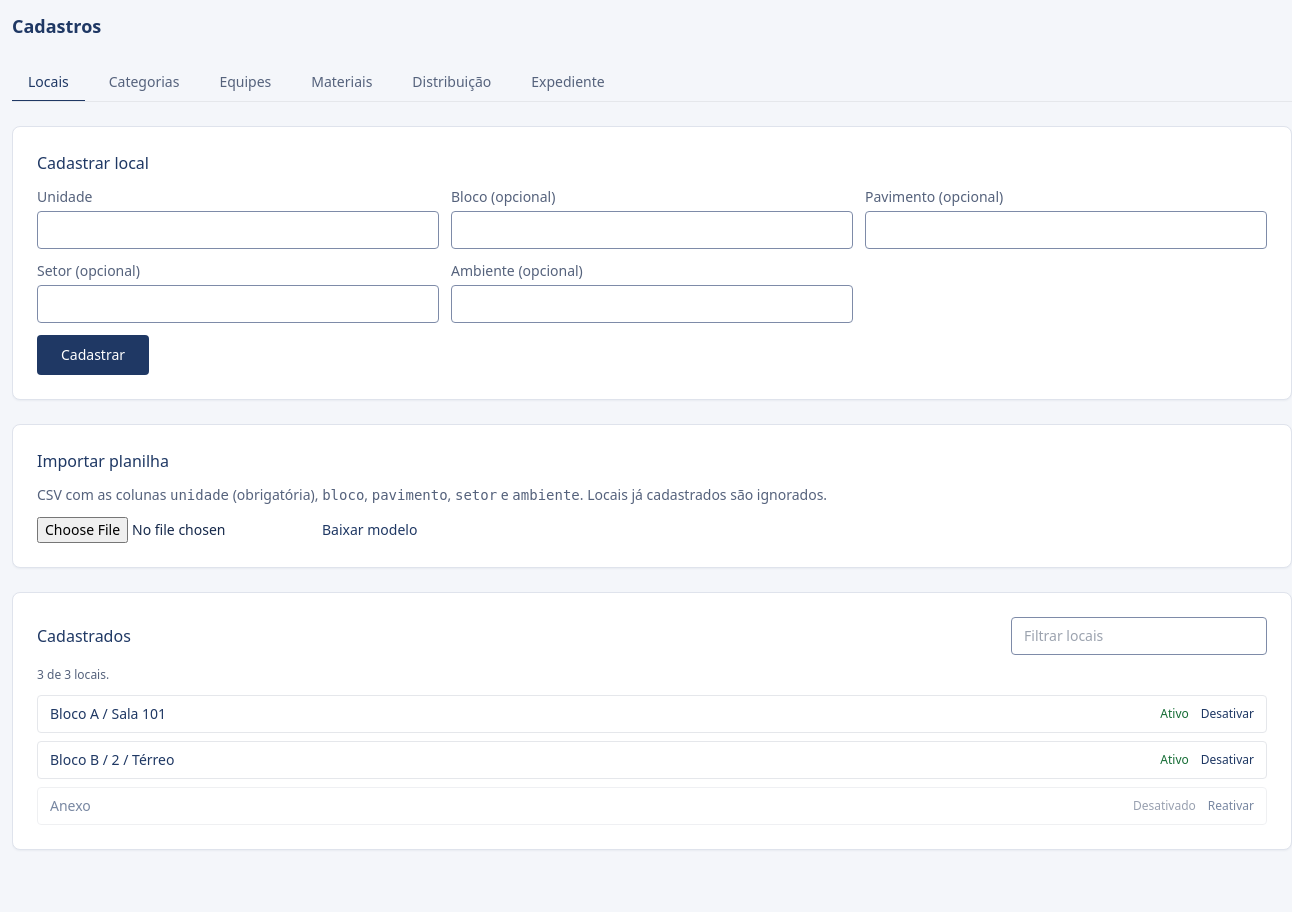
Test case: Filtro de locais › limpar o filtro devolve a lista inteira
The image size is (1292, 912).
Expected: the text "3 de 3 locais." is shown, [37,666,109,683]
Type "anexo" into the search field with placeholder "Filtrar locais".
click(1139, 636); type("anexo")  # box [1011,617,1267,655]
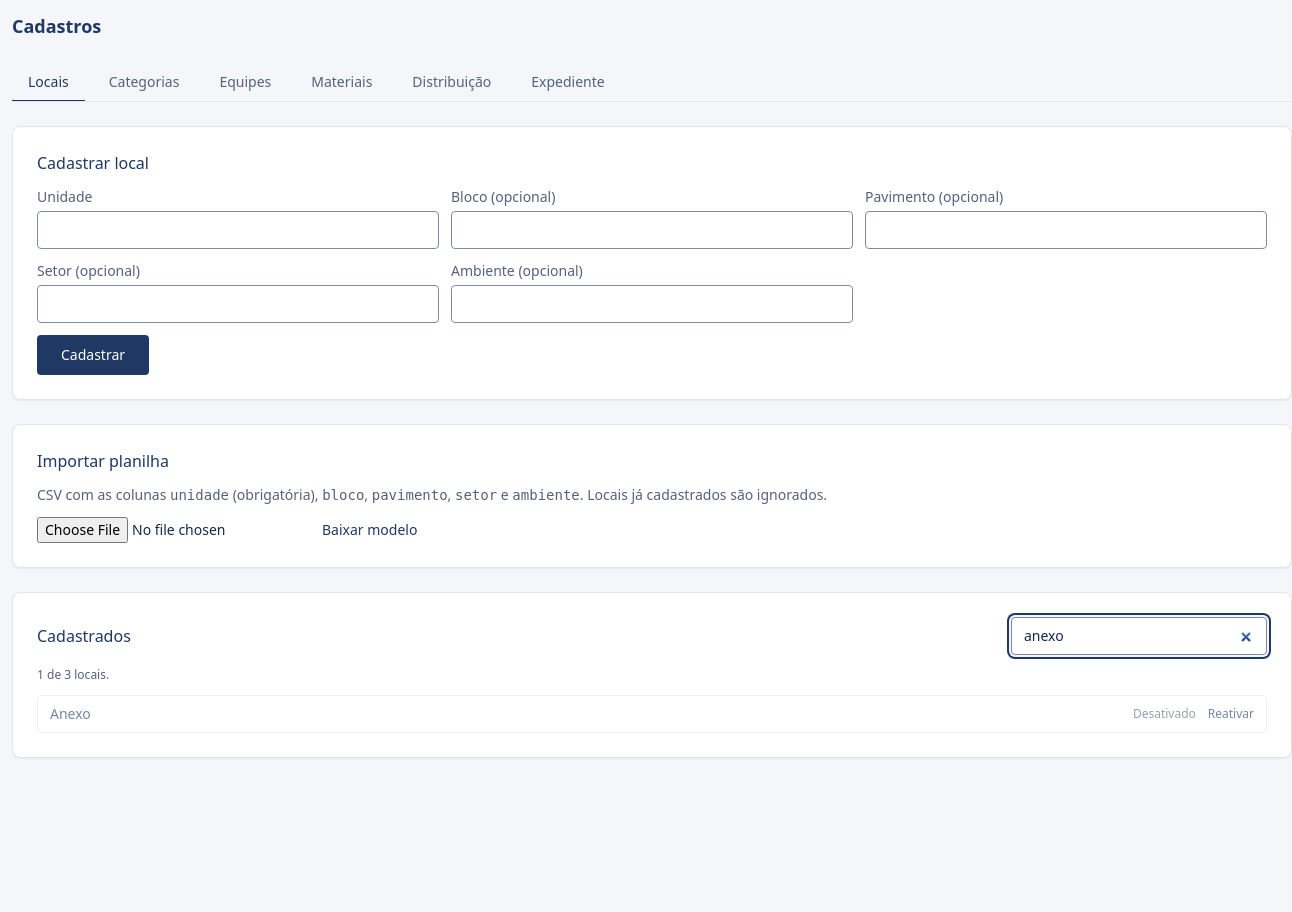
Expected: the text "1 de 3 locais." is shown, [37,666,109,683]
Clear the search field with placeholder "Filtrar locais" at (1139, 636), box [1011,617,1267,655]
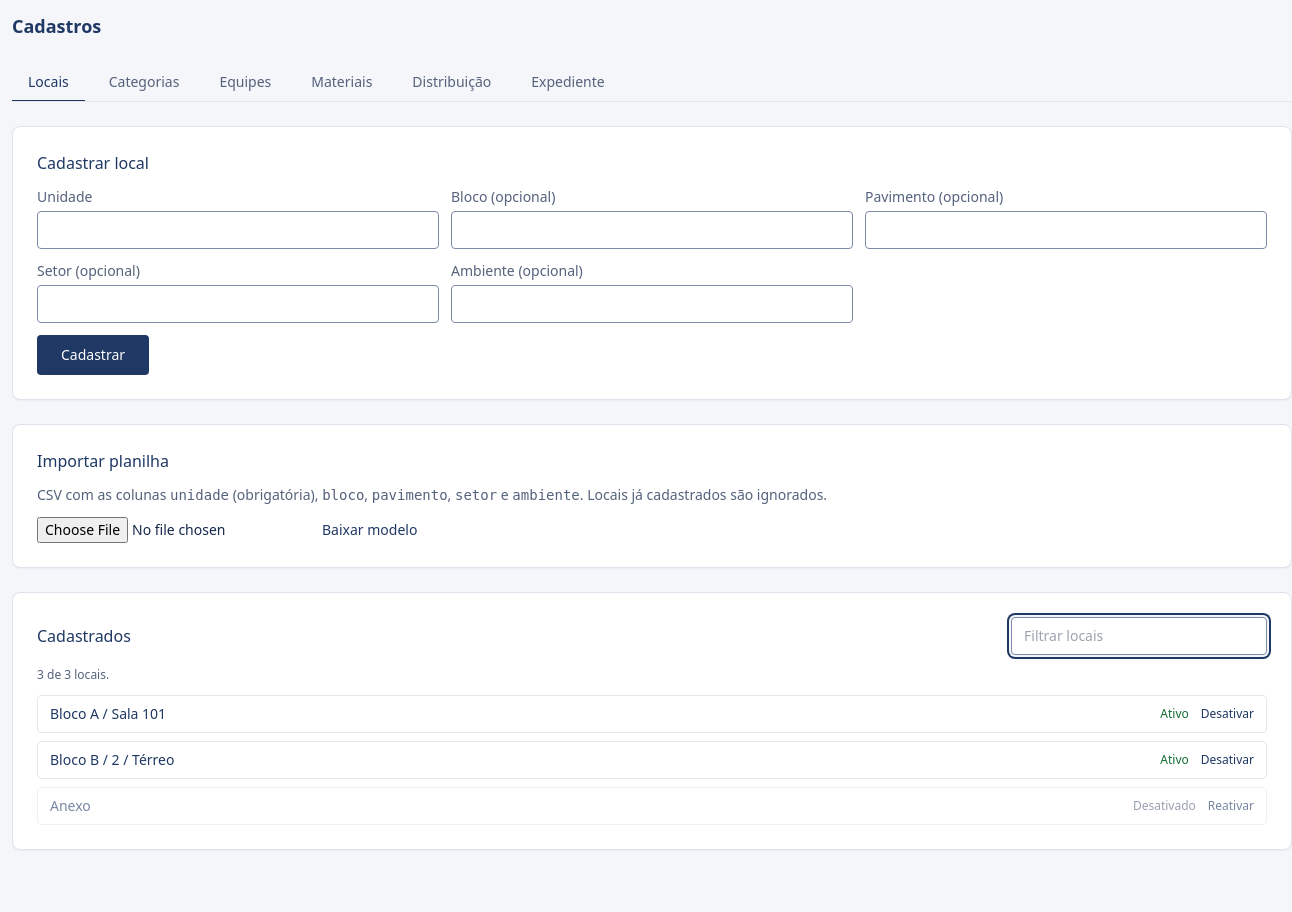
Expected: the text "3 de 3 locais." is shown, [37,666,109,683]
